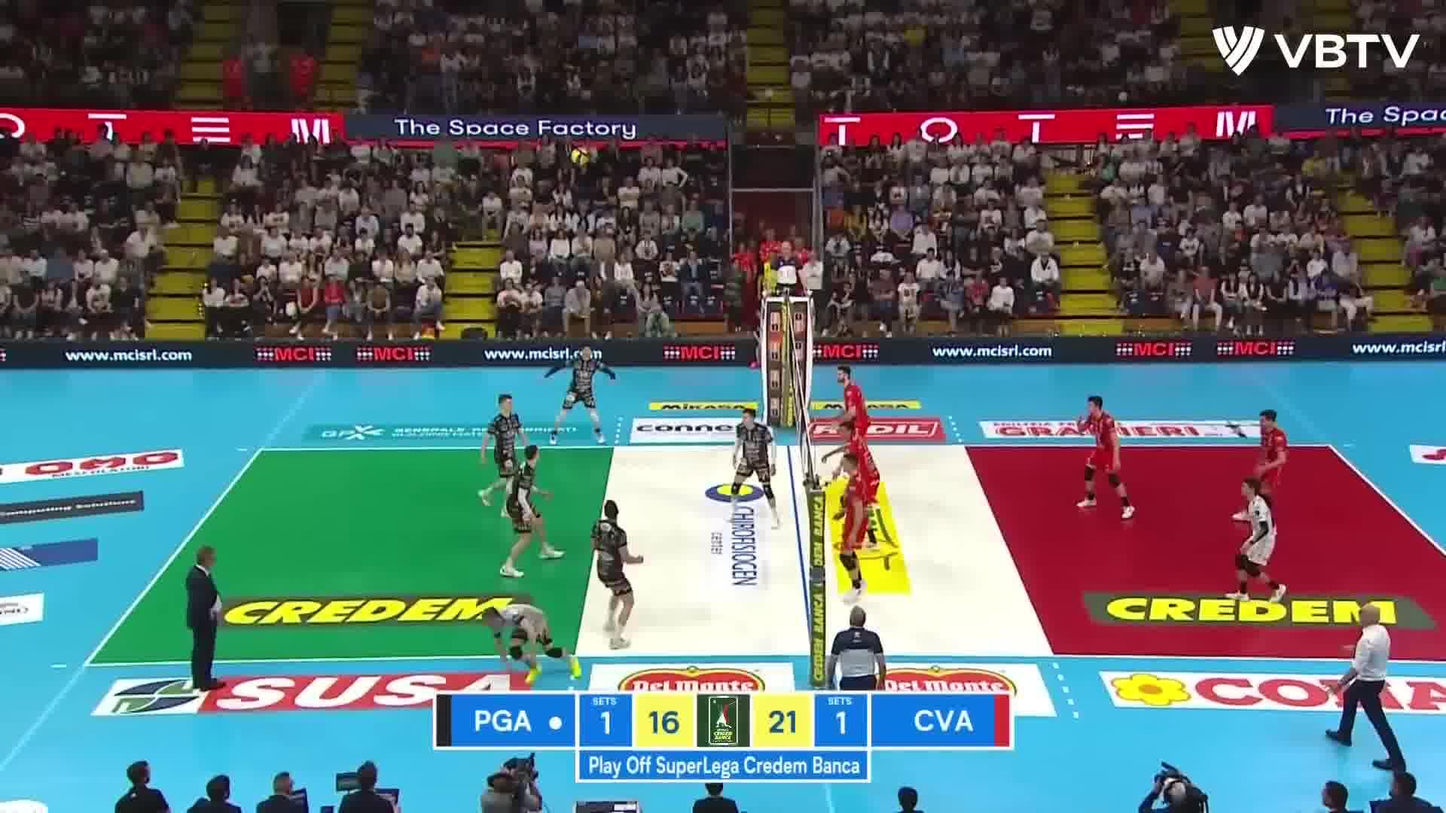balls: (566, 142, 596, 171)
